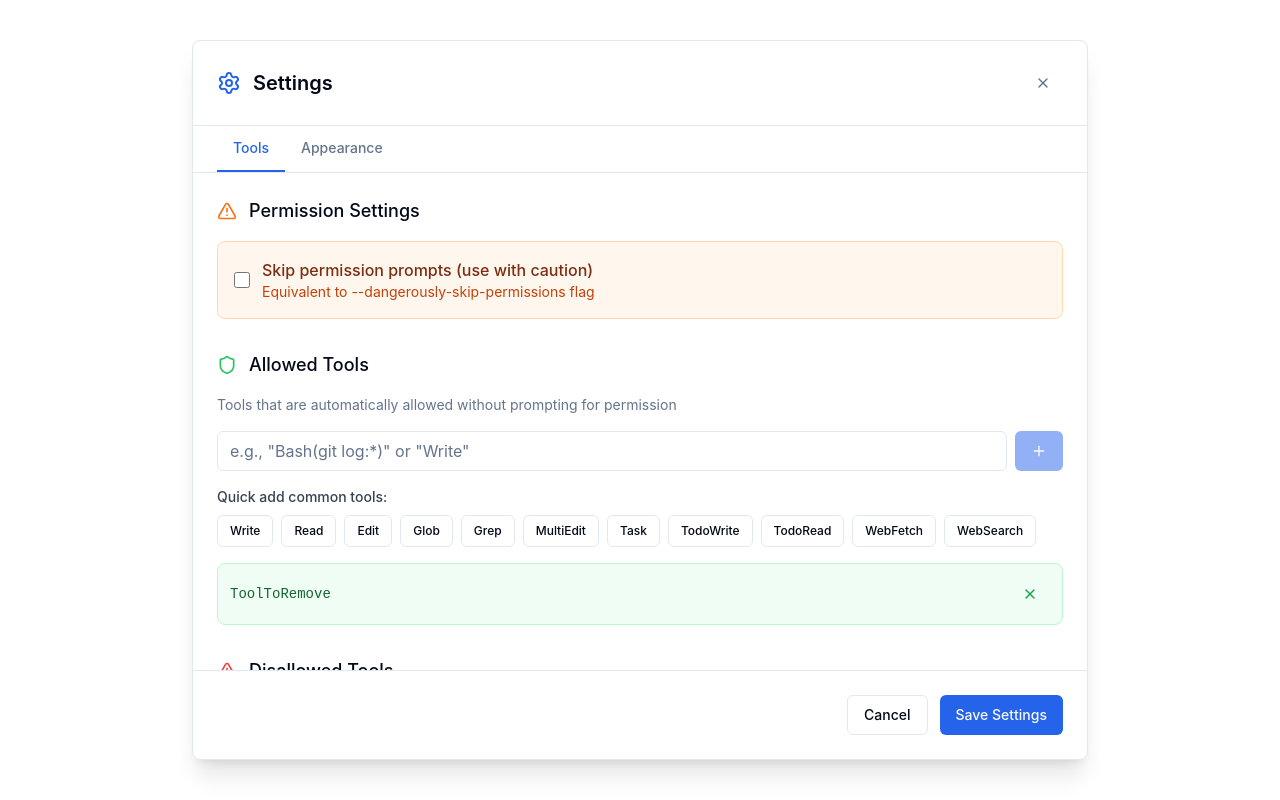
Scenario: Settings Component › Tools Tab › should remove tool from allowed list when X clicked
Expected: the text "ToolToRemove" is shown, [230,584,331,604]
Note: Find the remove button within the tool badge
Click the button without text in the row of "ToolToRemove": (1030, 594) [1010,576,1050,612]
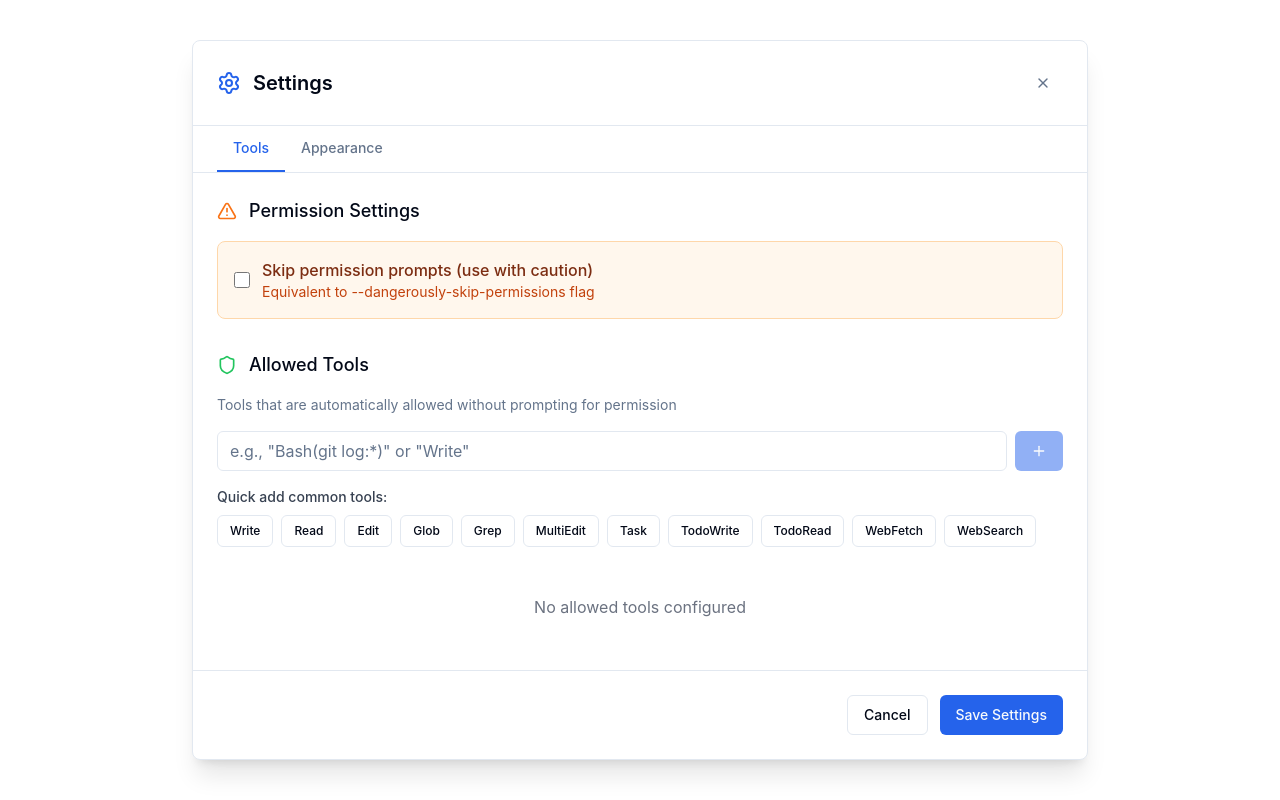
Expected: the text "ToolToRemove" is gone
